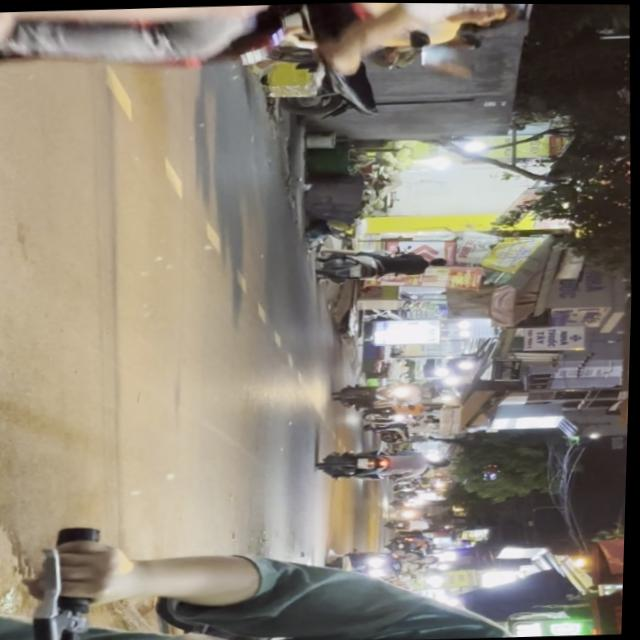licenseplate: (0, 508, 628, 640), (0, 0, 631, 87)
